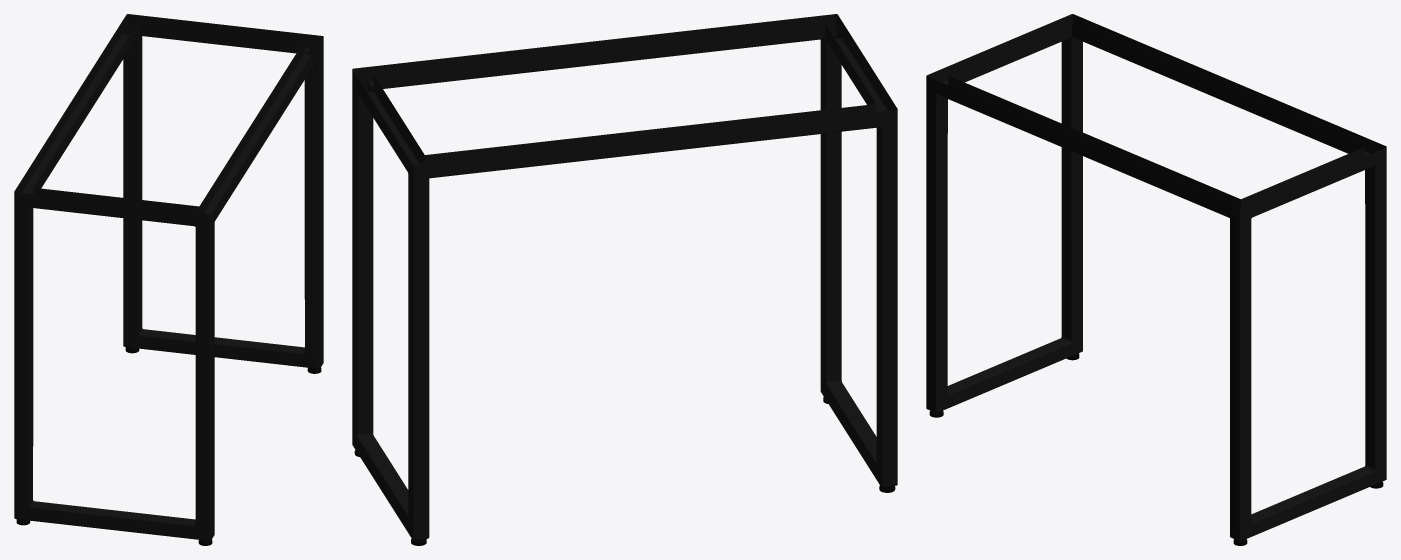
The model's file is diningtable_0102_leg_rectagle.glb.
3 views of the same model, side by side, from view 1: azimuth 30°, elevation 25°; view 2: azimuth 150°, elevation 25°; view 3: azimuth 270°, elevation 25° (orthographic). The views are drawn at different scales.
Parts seen in each view (by area): view 1: diningtable_0102_leg_rectagle; view 2: diningtable_0102_leg_rectagle; view 3: diningtable_0102_leg_rectagle.
Boxes of the visible parts, box(x1,y1,x2,y2) form: diningtable_0102_leg_rectagle: box(14, 14, 323, 545); diningtable_0102_leg_rectagle: box(352, 14, 897, 545); diningtable_0102_leg_rectagle: box(926, 14, 1386, 545).
Bounding box in the file's own units: 1.17 × 0.9468 × 1.17.
1 material, 1 textured.
